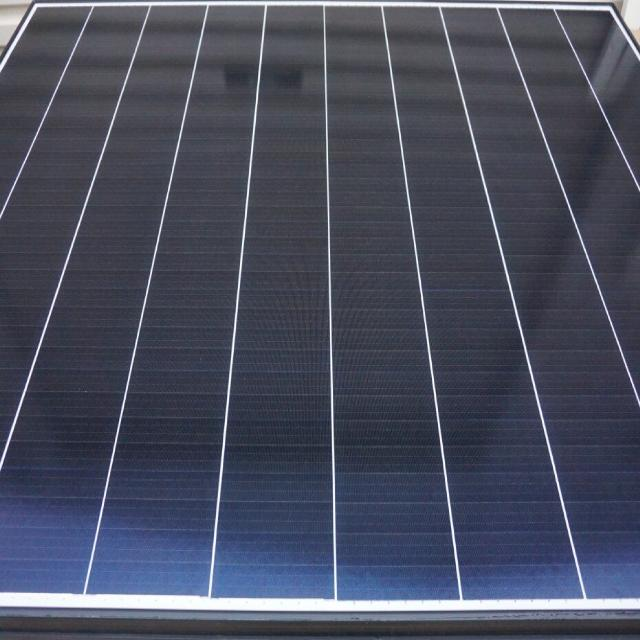no faulty: (0, 12, 640, 599)
